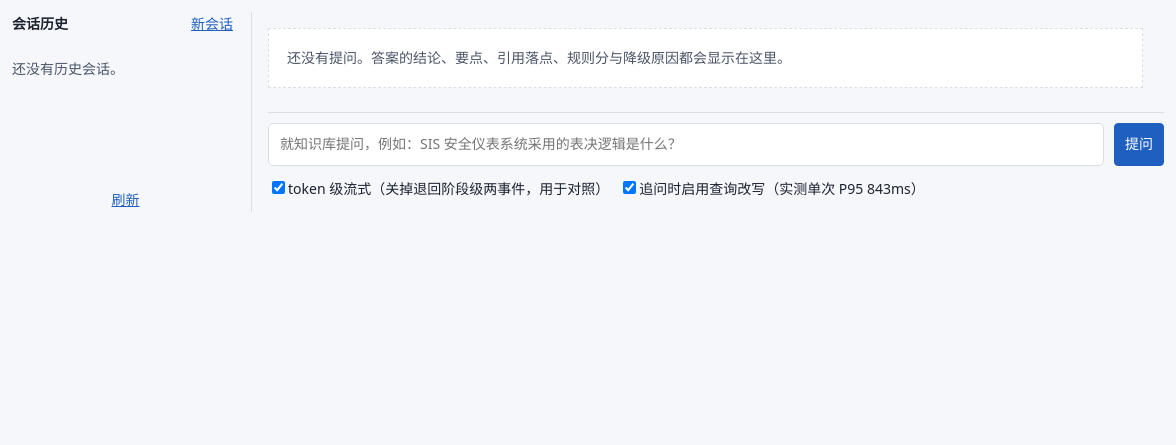
Scenario: 问答页的三态渲染 › 流出去却没成为答案的文字：标成已撤回、**原文还在**，不静默删除
In the search field named "问题": (686, 145) x1=268 y1=123 x2=1104 y2=166, type "表决逻辑是什么？"
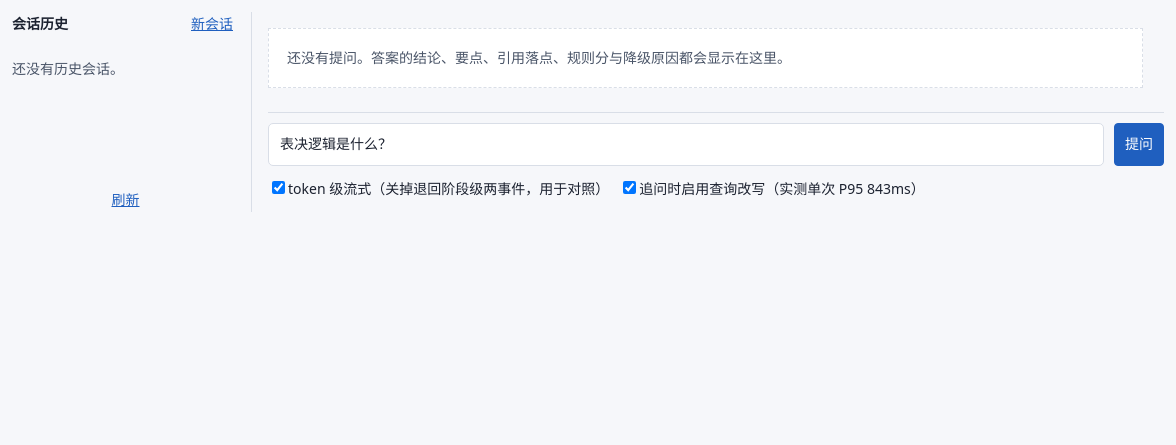
Click the button "提问": click(1139, 145) x1=1114 y1=123 x2=1164 y2=166
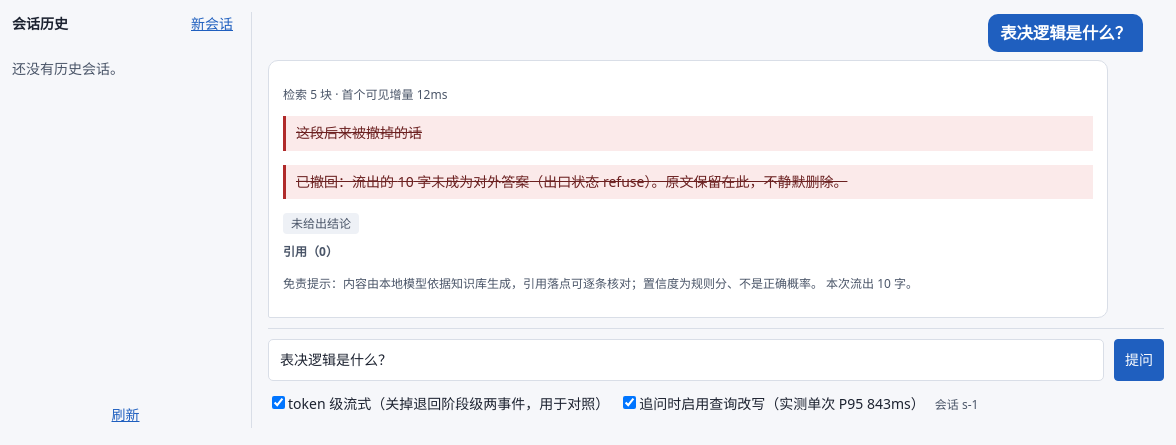
Now the text with test id "conclusion-retracted" reads "这段后来被撤掉的话", box x1=296 y1=123 x2=422 y2=142
Now the text with test id "retraction-notice" shows "已撤回", box x1=296 y1=172 x2=398 y2=191
Now the text with test id "retraction-notice" shows "不静默删除", box x1=651 y1=172 x2=847 y2=191
